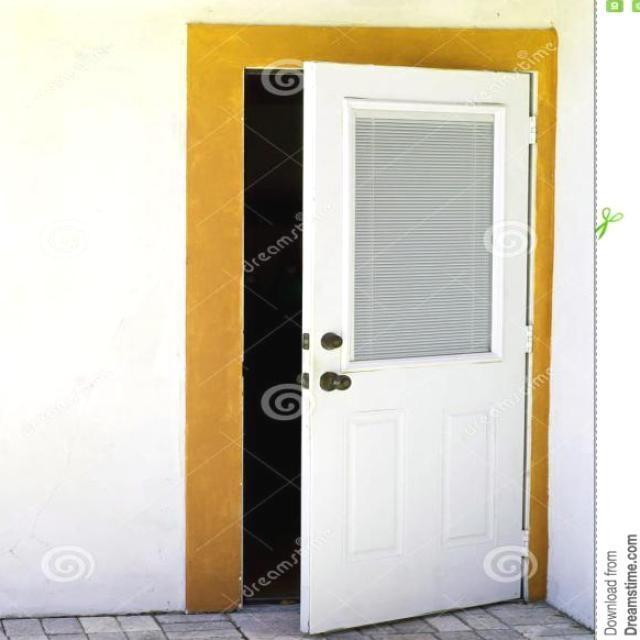door: (297, 60, 533, 634)
